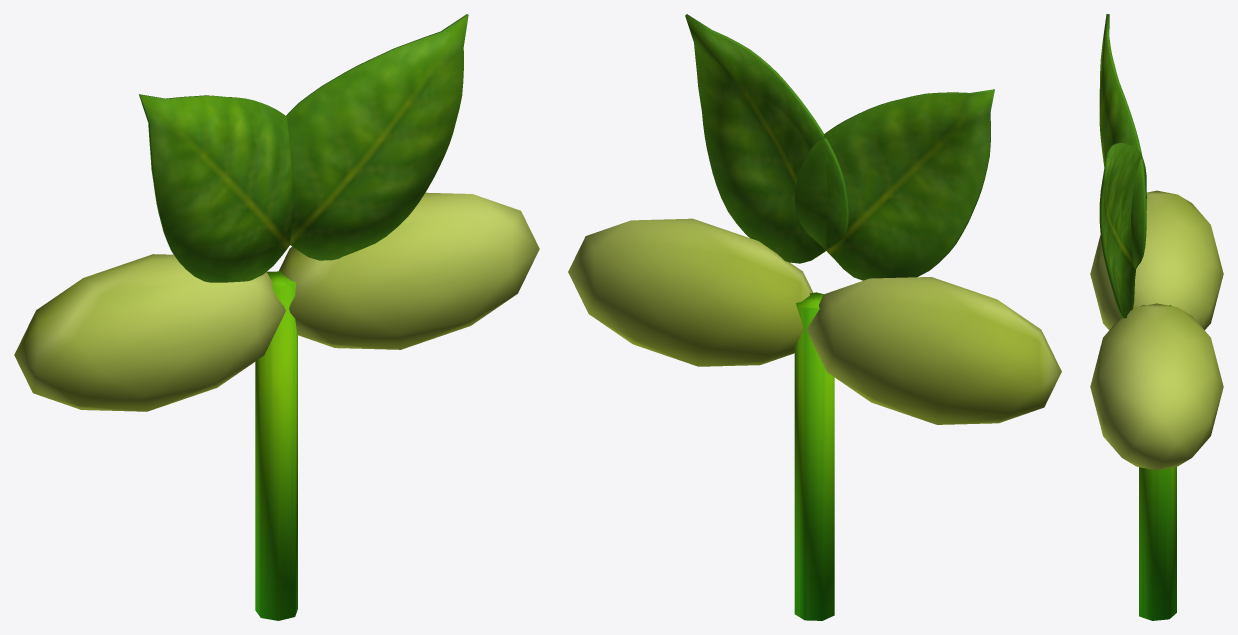
Rendered from NP_GreenBean_Sprout.fbx.
The picture shows the model from 3 angles, left to right: view 1: azimuth 30°, elevation 25°; view 2: azimuth 150°, elevation 25°; view 3: azimuth 270°, elevation 25°; orthographic projection. The views are drawn at different scales.
Visible parts, largest first — view 1: NP_GreenBean_Sprout; view 2: NP_GreenBean_Sprout; view 3: NP_GreenBean_Sprout.
Part boxes in pixels (x1,y1,x2,y2): NP_GreenBean_Sprout: [14, 14, 539, 620]; NP_GreenBean_Sprout: [568, 14, 1061, 620]; NP_GreenBean_Sprout: [1090, 14, 1223, 620].
Size of the model in its own units: 23.79 by 26.08 by 6.
